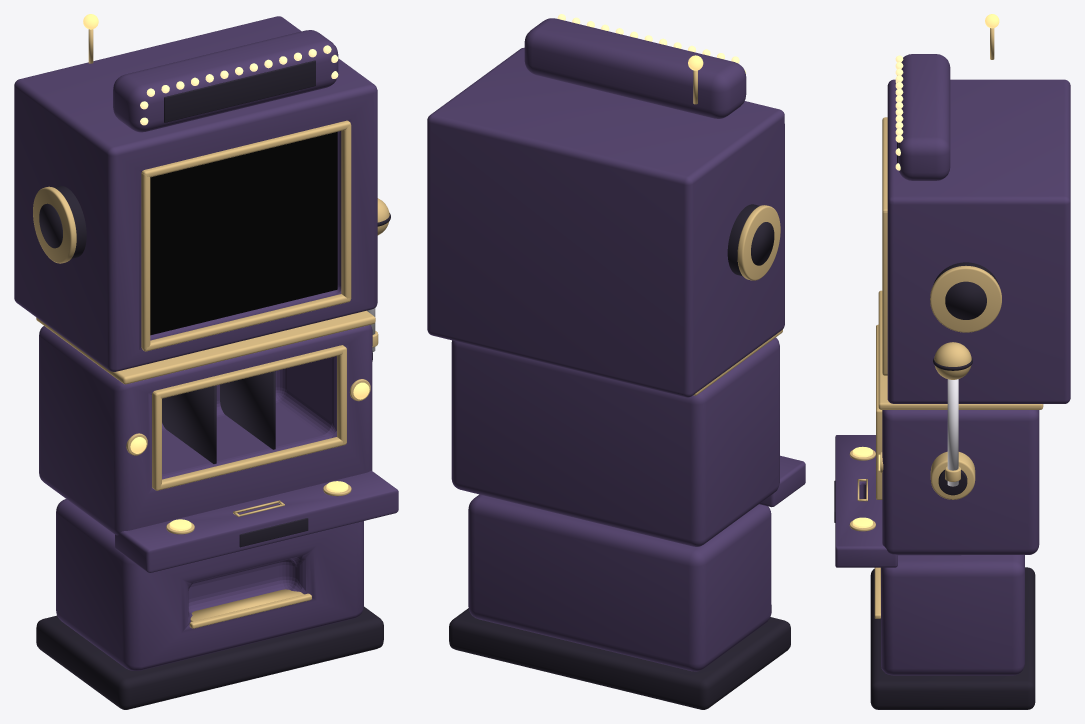
Rendered from slotbot.glb.
3 renders of one model, left to right at view 1: azimuth 30°, elevation 25°; view 2: azimuth 150°, elevation 25°; view 3: azimuth 270°, elevation 25°, orthographic. The views are drawn at different scales.
Visible parts, largest first — view 1: head, belly, visor, lower, plinth, deck, crown, waist, crown_plate, reel_div_1, reel_div_-1, bezel_b (+13 smaller); view 2: head, belly, lower, plinth, crown, ear_ring_-1, deck, ear_grill_-1, ear_-1; view 3: head, belly, lower, plinth, crown, deck, ear_ring_1, waist, ear_grill_1, lever_rod, lever_knob, lever_hub (+4 smaller).
Part boxes in pixels (x1,y1,x2,y2): head: (14,16,377,371); belly: (39,325,372,535); visor: (150,132,337,335); lower: (56,499,363,670); plinth: (36,606,383,709); deck: (115,470,398,572); crown: (113,30,338,132); waist: (36,310,375,384); crown_plate: (164,60,315,122); reel_div_1: (220,371,275,449); reel_div_-1: (162,385,216,463); bezel_b: (142,294,350,351); head: (427,47,784,397); belly: (451,337,779,546); lower: (468,494,771,671); plinth: (449,608,790,709); crown: (524,18,746,118); ear_ring_-1: (737,205,780,280); deck: (759,455,805,507); ear_grill_-1: (751,222,774,265); ear_-1: (727,204,759,276); head: (887,79,1070,403); belly: (882,410,1039,555); lower: (881,555,1024,675); plinth: (870,567,1035,709); crown: (898,54,950,180); deck: (835,435,897,567); ear_ring_1: (930,265,1001,332); waist: (878,290,1043,409); ear_grill_1: (945,281,986,319); lever_rod: (947,379,958,486); lever_knob: (934,342,971,379); lever_hub: (930,451,975,499).
Bounding box in the file's own units: 26.98 × 50.15 × 18.08.
